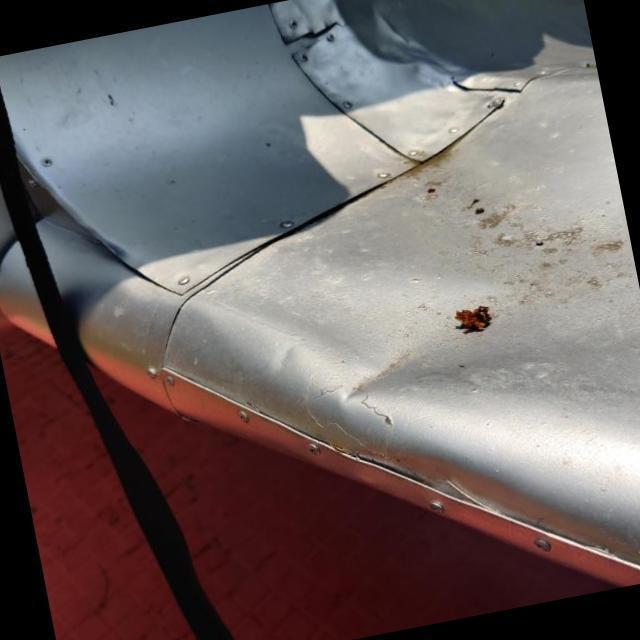Dent: (298, 236, 610, 470), (320, 0, 491, 103)
Rupture: (432, 48, 536, 124), (273, 8, 360, 68)
